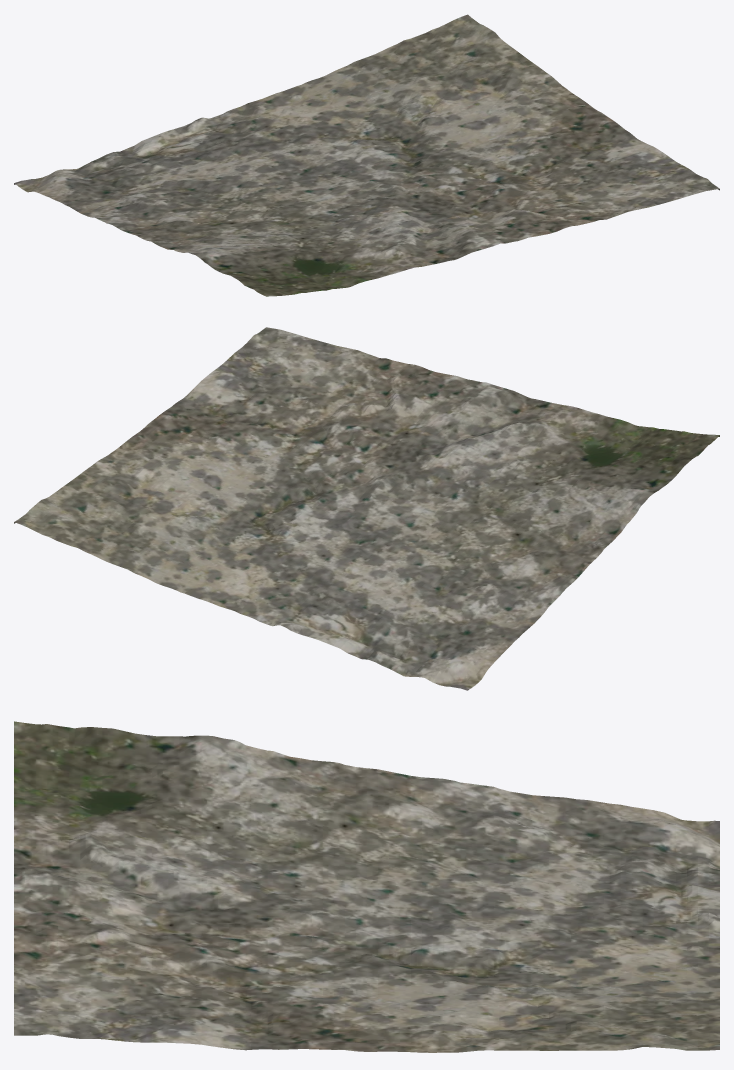
3 renders of one model, top to bottom at view 1: azimuth 30°, elevation 25°; view 2: azimuth 150°, elevation 25°; view 3: azimuth 270°, elevation 25°, orthographic. The views are drawn at different scales.
Size of the model in its own units: 250 by 39.17 by 241.
1 material, 1 textured.
